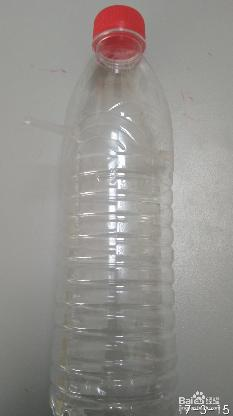Plastic Bottle: (51, 0, 181, 416)
